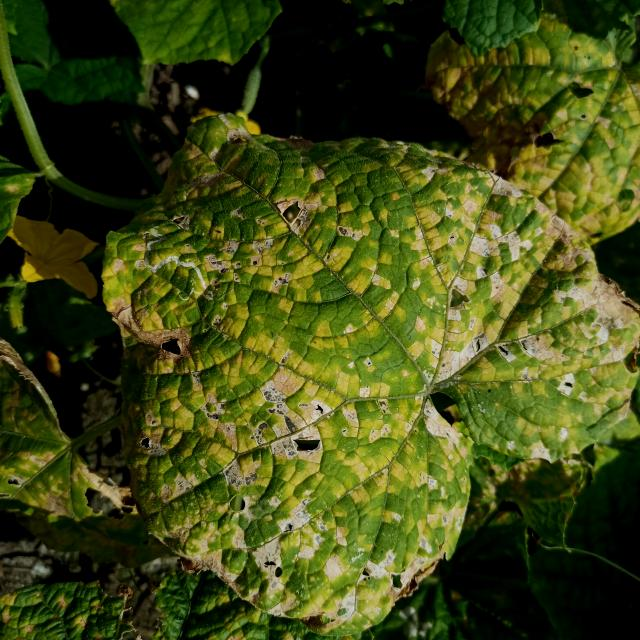disease_cucumber: (99, 115, 630, 618), (423, 14, 640, 236)
